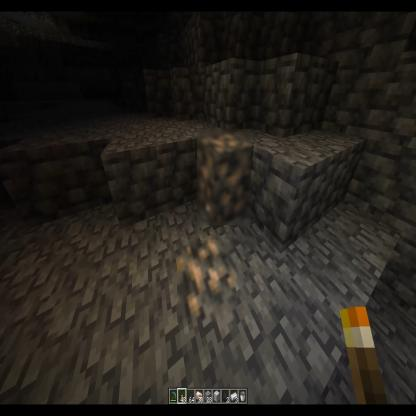iron ore: (197, 129, 251, 225), (177, 240, 236, 322)
